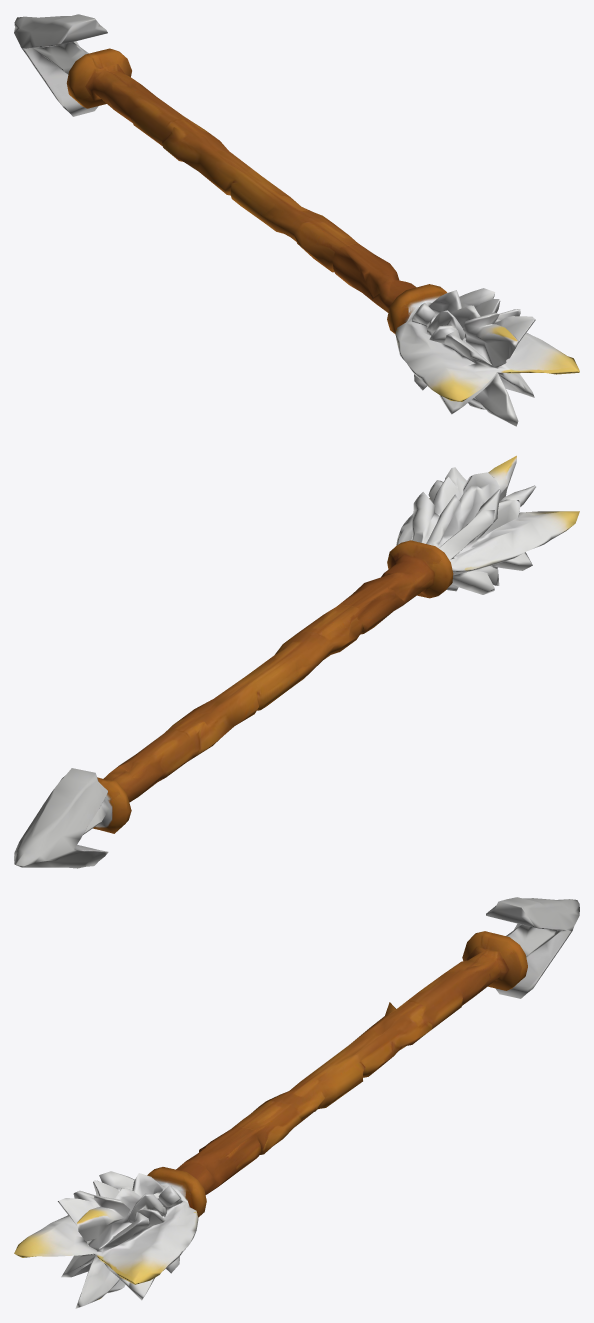
The model's file is arrow.glb.
3 views of the same model, one above another, from view 1: azimuth 30°, elevation 25°; view 2: azimuth 150°, elevation 25°; view 3: azimuth 330°, elevation 25° (orthographic).
Visible parts, largest first — view 1: tripo_node_364f1afa-43c2-4012-a933-83382fe0855b; view 2: tripo_node_364f1afa-43c2-4012-a933-83382fe0855b; view 3: tripo_node_364f1afa-43c2-4012-a933-83382fe0855b.
Boxes of the visible parts, bbox=[...] form: tripo_node_364f1afa-43c2-4012-a933-83382fe0855b: bbox=[14, 14, 579, 426]; tripo_node_364f1afa-43c2-4012-a933-83382fe0855b: bbox=[14, 455, 579, 868]; tripo_node_364f1afa-43c2-4012-a933-83382fe0855b: bbox=[14, 897, 579, 1308].
Bounding box in the file's own units: 0.158 × 0.1074 × 1.
Materials: 1 (1 with a texture image).
